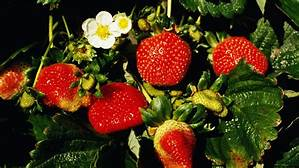Fresa: (84, 80, 153, 137), (132, 28, 194, 89), (210, 33, 273, 82)
